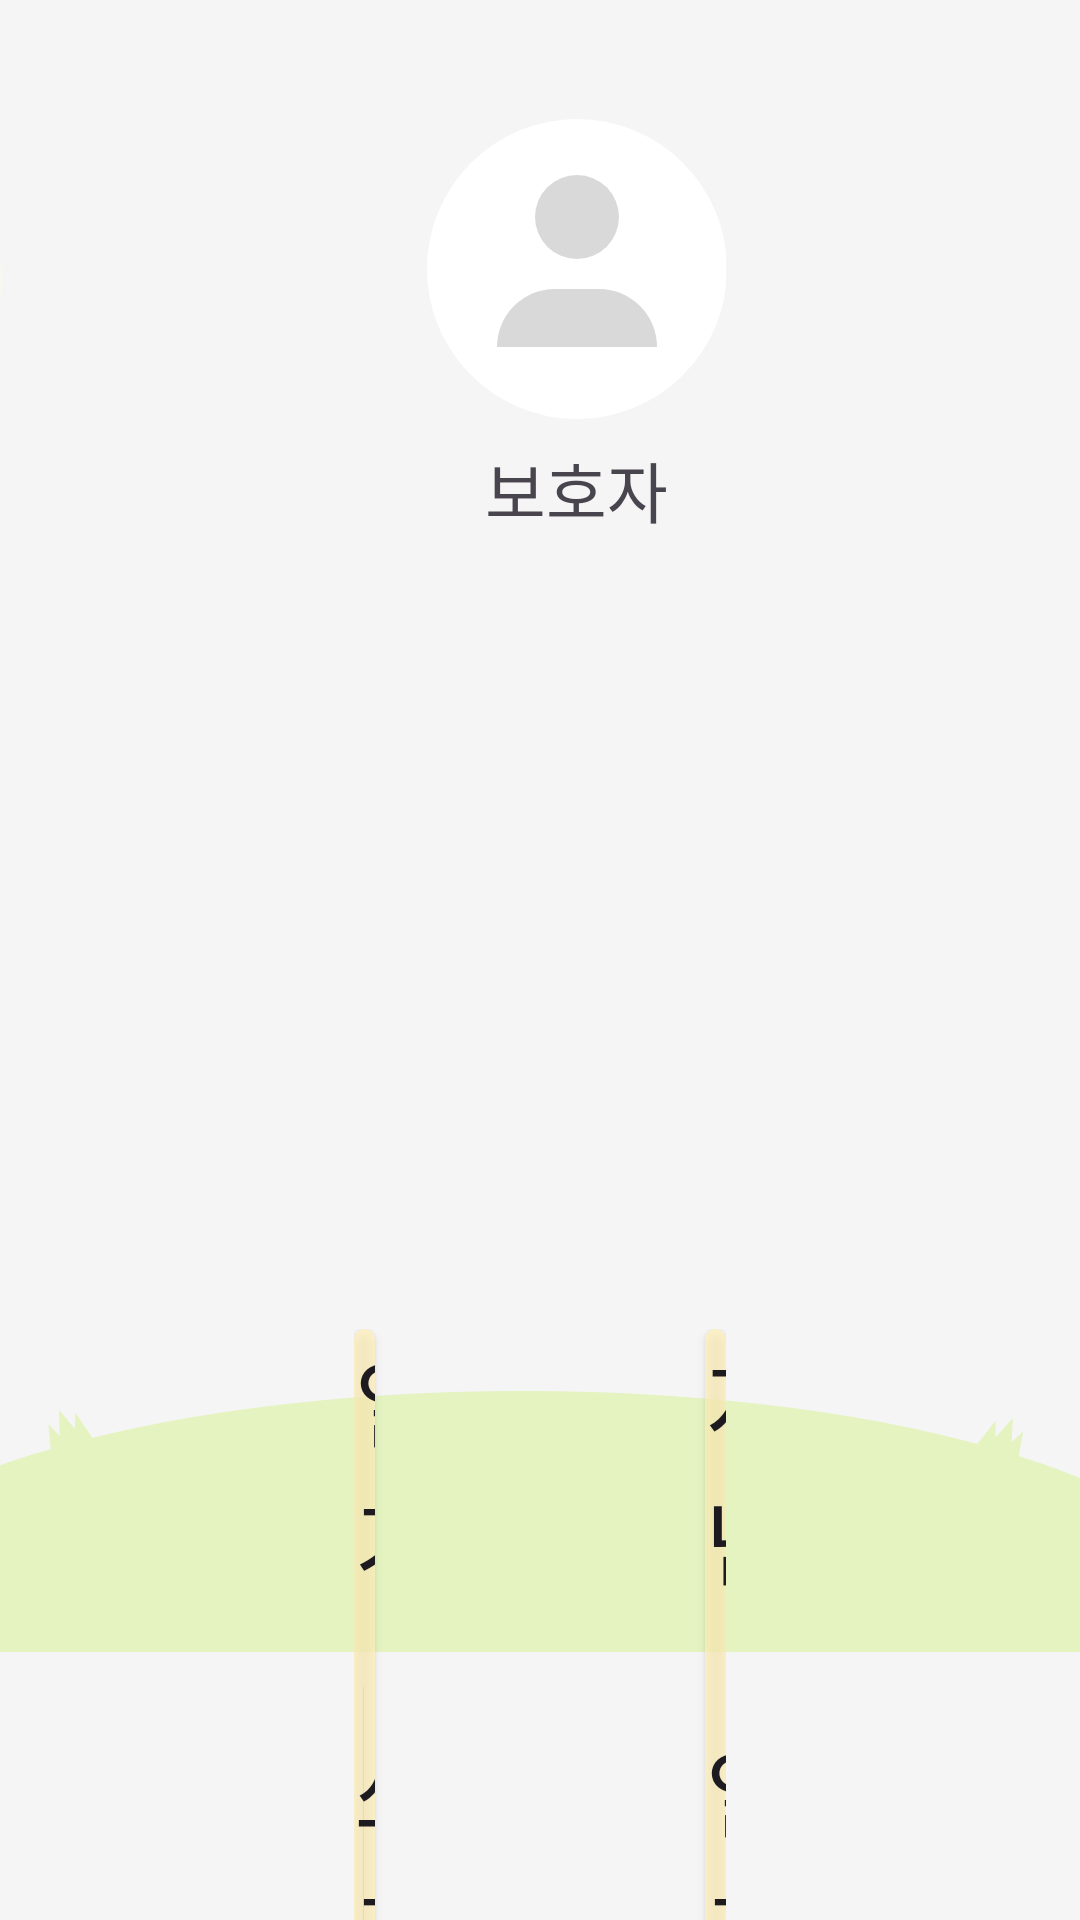

Point at icon controls on the screen. Image size 1080×1920, points as (x=x, y=y).
profile: (x=576, y=269)
